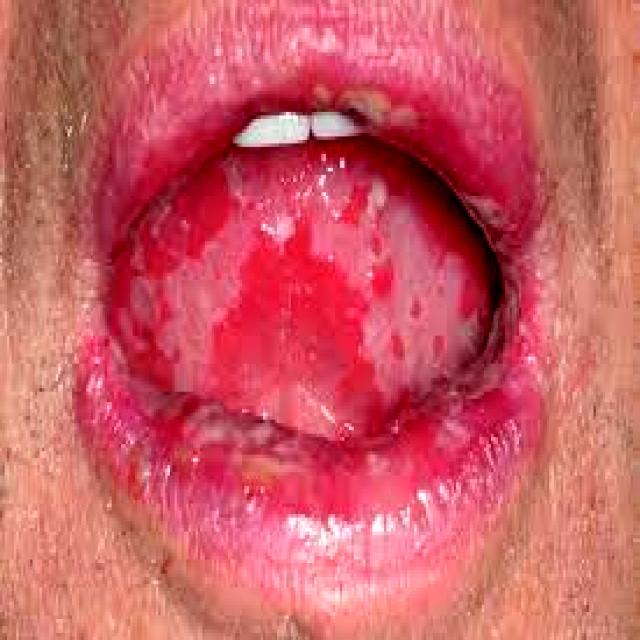ulcer: (112, 140, 498, 437)
